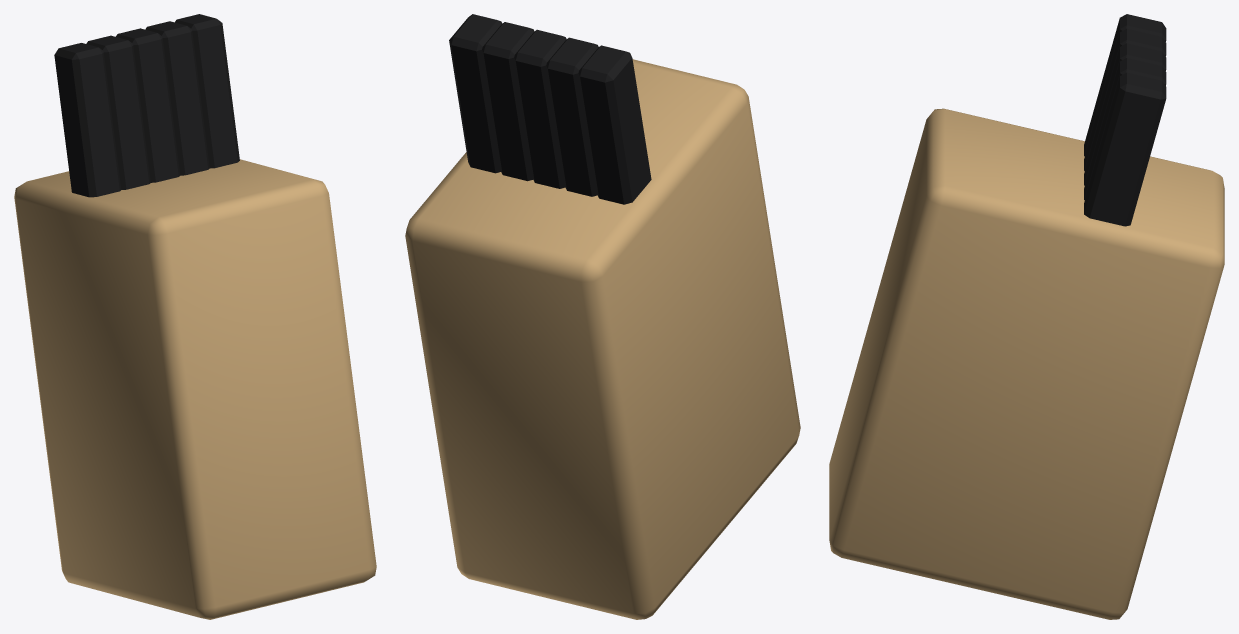
The model's file is i_kit_0.glb.
The picture shows the model from 3 angles, left to right: view 1: azimuth 30°, elevation 25°; view 2: azimuth 150°, elevation 25°; view 3: azimuth 270°, elevation 25°; orthographic projection. The views are drawn at different scales.
Visible parts, largest first — view 1: o, o.001, o.005, o.004, o.003, o.002; view 2: o, o.001, o.005, o.003, o.002, o.004; view 3: o, o.005, o.004, o.003, o.001, o.002.
Boxes of the visible parts, left/top/right/bottom form: o: left=14, top=159, right=376, bottom=619; o.001: left=54, top=43, right=121, bottom=197; o.005: left=175, top=14, right=239, bottom=168; o.004: left=145, top=21, right=209, bottom=175; o.003: left=116, top=28, right=180, bottom=182; o.002: left=86, top=35, right=150, bottom=189; o: left=405, top=59, right=800, bottom=619; o.001: left=578, top=45, right=651, bottom=204; o.005: left=449, top=14, right=502, bottom=173; o.003: left=514, top=29, right=566, bottom=188; o.002: left=546, top=37, right=598, bottom=196; o.004: left=482, top=22, right=534, bottom=181; o: left=829, top=108, right=1224, bottom=619; o.005: left=1084, top=72, right=1166, bottom=226; o.004: left=1084, top=58, right=1166, bottom=200; o.003: left=1084, top=43, right=1166, bottom=185; o.001: left=1084, top=14, right=1166, bottom=156; o.002: left=1084, top=28, right=1166, bottom=170.
Bounding box in the file's own units: 0.11 × 0.3053 × 0.2055.
